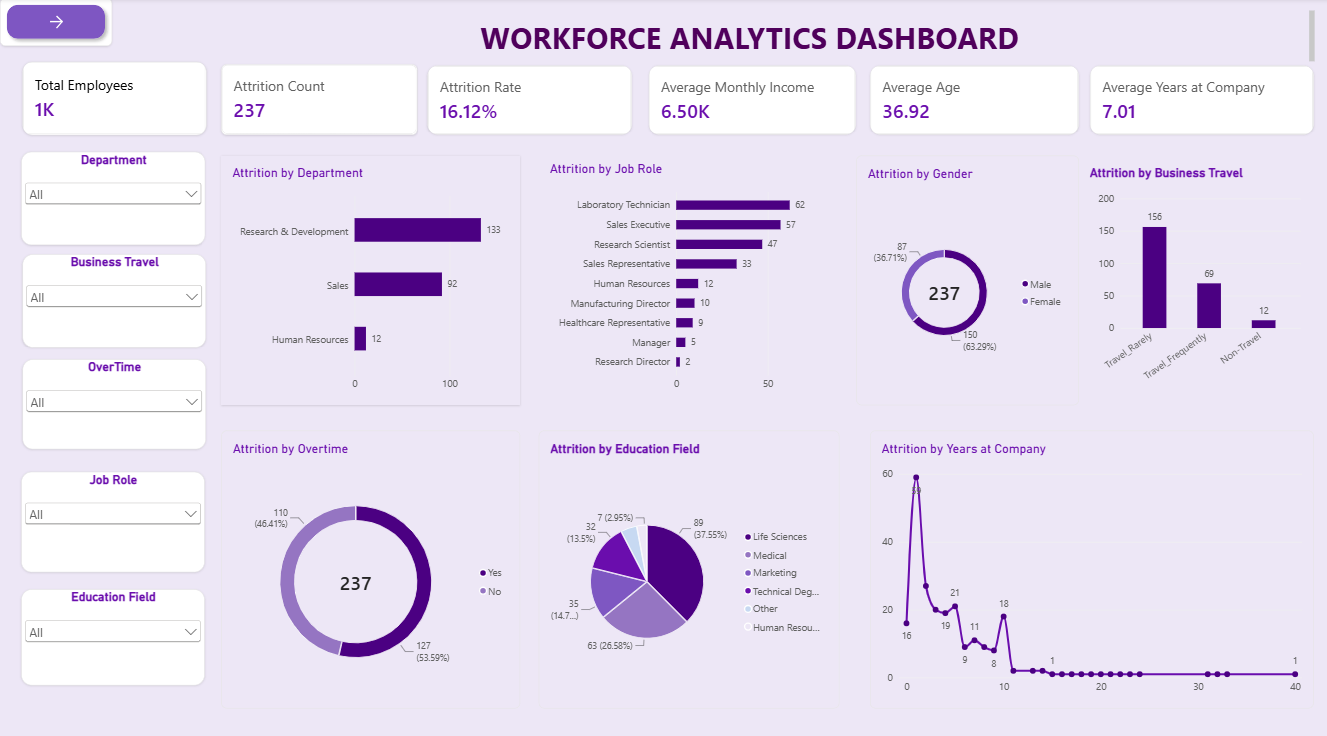

This screenshot's page, from the dashboard's own definition file:
{"tool":"powerbi","page":{"name":"Page 1","canvas":[1920,1080],"ordinal":0},"visuals":[{"type":"cardVisual","fields":{"Data":["Exp_6.Total Employees"]},"box":[32,92,266,106],"z":0},{"type":"cardVisual","fields":{"Data":["Exp_6.Attrition Count"]},"box":[320,96,284,102],"z":1000},{"type":"cardVisual","fields":{"Data":["Exp_6.Attrition Rate"]},"box":[618,98,296,100],"z":2000},{"type":"cardVisual","fields":{"Data":["Exp_6.Average Age"]},"box":[1260,98,302,100],"z":3000},{"type":"cardVisual","fields":{"Data":["Exp_6.Average Monthly Income"]},"box":[940,98,300,100],"z":4000},{"type":"cardVisual","fields":{"Data":["Exp_6.Average Years at Company"]},"box":[1578,98,324,100],"z":5000},{"type":"slicer","title":"Department","fields":{"Values":["Exp_6.Department"]},"box":[31.7,223.3,266.7,135],"z":6000},{"type":"slicer","title":"Job Role","fields":{"Values":["Exp_6.JobRole"]},"box":[31.7,686.7,265.6,145.6],"z":7000},{"type":"slicer","title":"Education Field","fields":{"Values":["Exp_6.EducationField"]},"box":[30,856.7,265.6,138.9],"z":8000},{"type":"slicer","title":"OverTime","fields":{"Values":["Exp_6.OverTime"]},"box":[33.3,523.3,265.6,130],"z":9000},{"type":"textbox","box":[276,18,1626,74],"z":10000},{"type":"clusteredBarChart","title":"Attrition by Department","fields":{"Category":["Exp_6.Department"],"Y":["Exp_6.Attrition Count"]},"box":[320.3,227.2,432.8,361.4],"z":11000},{"type":"clusteredBarChart","title":"Attrition by Job Role","fields":{"Category":["Exp_6.JobRole"],"Y":["Exp_6.Attrition Count"]},"box":[779.1,222.9,435,365.7],"z":12000},{"type":"donutChart","title":"Attrition by Gender","fields":{"Category":["Exp_6.Gender"],"Y":["Exp_6.Attrition Count"]},"box":[1240.1,227.2,322.5,361.4],"z":13000},{"type":"clusteredColumnChart","title":"Attrition by Business Travel","fields":{"Category":["Exp_6.BusinessTravel"],"Y":["Exp_6.Attrition Count"]},"box":[1562.5,227.2,337.6,361.4],"z":14000},{"type":"donutChart","title":"Attrition by Overtime","fields":{"Category":["Exp_6.OverTime"],"Y":["Exp_6.Attrition Count"]},"box":[320.3,625.4,432.8,402.5],"z":15000},{"type":"pieChart","title":"Attrition by Education Field","fields":{"Category":["Exp_6.EducationField"],"Y":["Exp_6.Attrition Count"]},"box":[779.1,625.4,435,402.5],"z":16000},{"type":"lineChart","title":"Attrition by Years at Company","fields":{"Category":["Exp_6.YearsAtCompany"],"Y":["Exp_6.Attrition Count"]},"box":[1259.5,625.4,642.8,402.5],"z":17000},{"type":"slicer","title":"Business Travel ","fields":{"Values":["Exp_6.BusinessTravel"]},"box":[33.3,371.7,265.6,135.6],"z":18000},{"type":"actionButton","box":[0,0,162.3,69.3],"z":19000}]}

Visuals, with their boxes in screenshot pixels (x1, y1, x2, y2), scaled from the page's 1920x1080 canvas onto the 1327x736 screenshot:
cardVisual - Exp_6.Total Employees: 22,63,206,135
cardVisual - Exp_6.Attrition Count: 221,65,417,135
cardVisual - Exp_6.Attrition Rate: 427,67,632,135
cardVisual - Exp_6.Average Age: 871,67,1080,135
cardVisual - Exp_6.Average Monthly Income: 650,67,857,135
cardVisual - Exp_6.Average Years at Company: 1091,67,1315,135
"Department" slicer: 22,152,206,244
"Job Role" slicer: 22,468,205,567
"Education Field" slicer: 21,584,204,678
"OverTime" slicer: 23,357,207,445
textbox: 191,12,1315,63
"Attrition by Department" clusteredBarChart: 221,155,521,401
"Attrition by Job Role" clusteredBarChart: 538,152,839,401
"Attrition by Gender" donutChart: 857,155,1080,401
"Attrition by Business Travel" clusteredColumnChart: 1080,155,1313,401
"Attrition by Overtime" donutChart: 221,426,521,700
"Attrition by Education Field" pieChart: 538,426,839,700
"Attrition by Years at Company" lineChart: 870,426,1315,700
"Business Travel " slicer: 23,253,207,346
actionButton: 0,0,112,47
